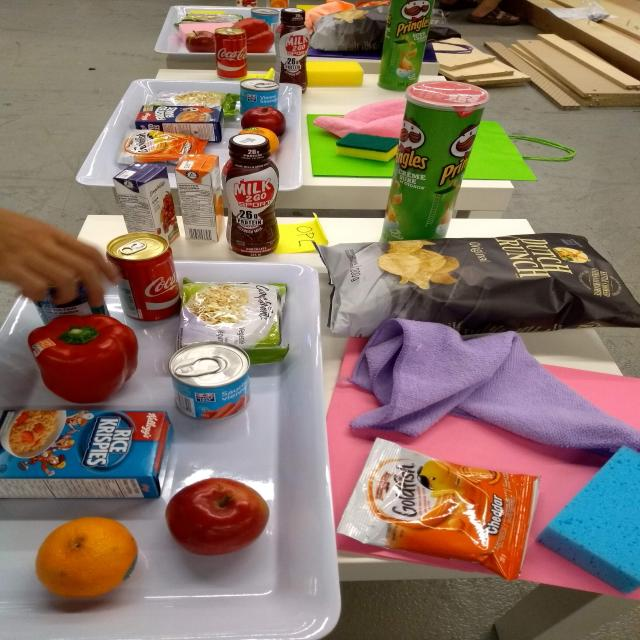apple: (162, 474, 276, 564), (241, 104, 291, 138), (187, 26, 216, 55)
chocolate_drink: (218, 131, 287, 261), (275, 8, 313, 95)
cloth_opl: (335, 314, 640, 466)
coke: (103, 232, 188, 324), (213, 28, 250, 81)
crackers: (333, 435, 546, 584), (115, 127, 207, 168)
grape_juice: (113, 164, 188, 251)
noodles: (175, 280, 292, 368)
orange: (31, 513, 144, 602)
orange_juice: (173, 153, 221, 249)
paprika: (25, 313, 142, 405)
potato_chips: (312, 230, 640, 337)
pringles: (374, 79, 496, 252)
sausages: (165, 340, 257, 423)
scrubby: (334, 132, 400, 164)
